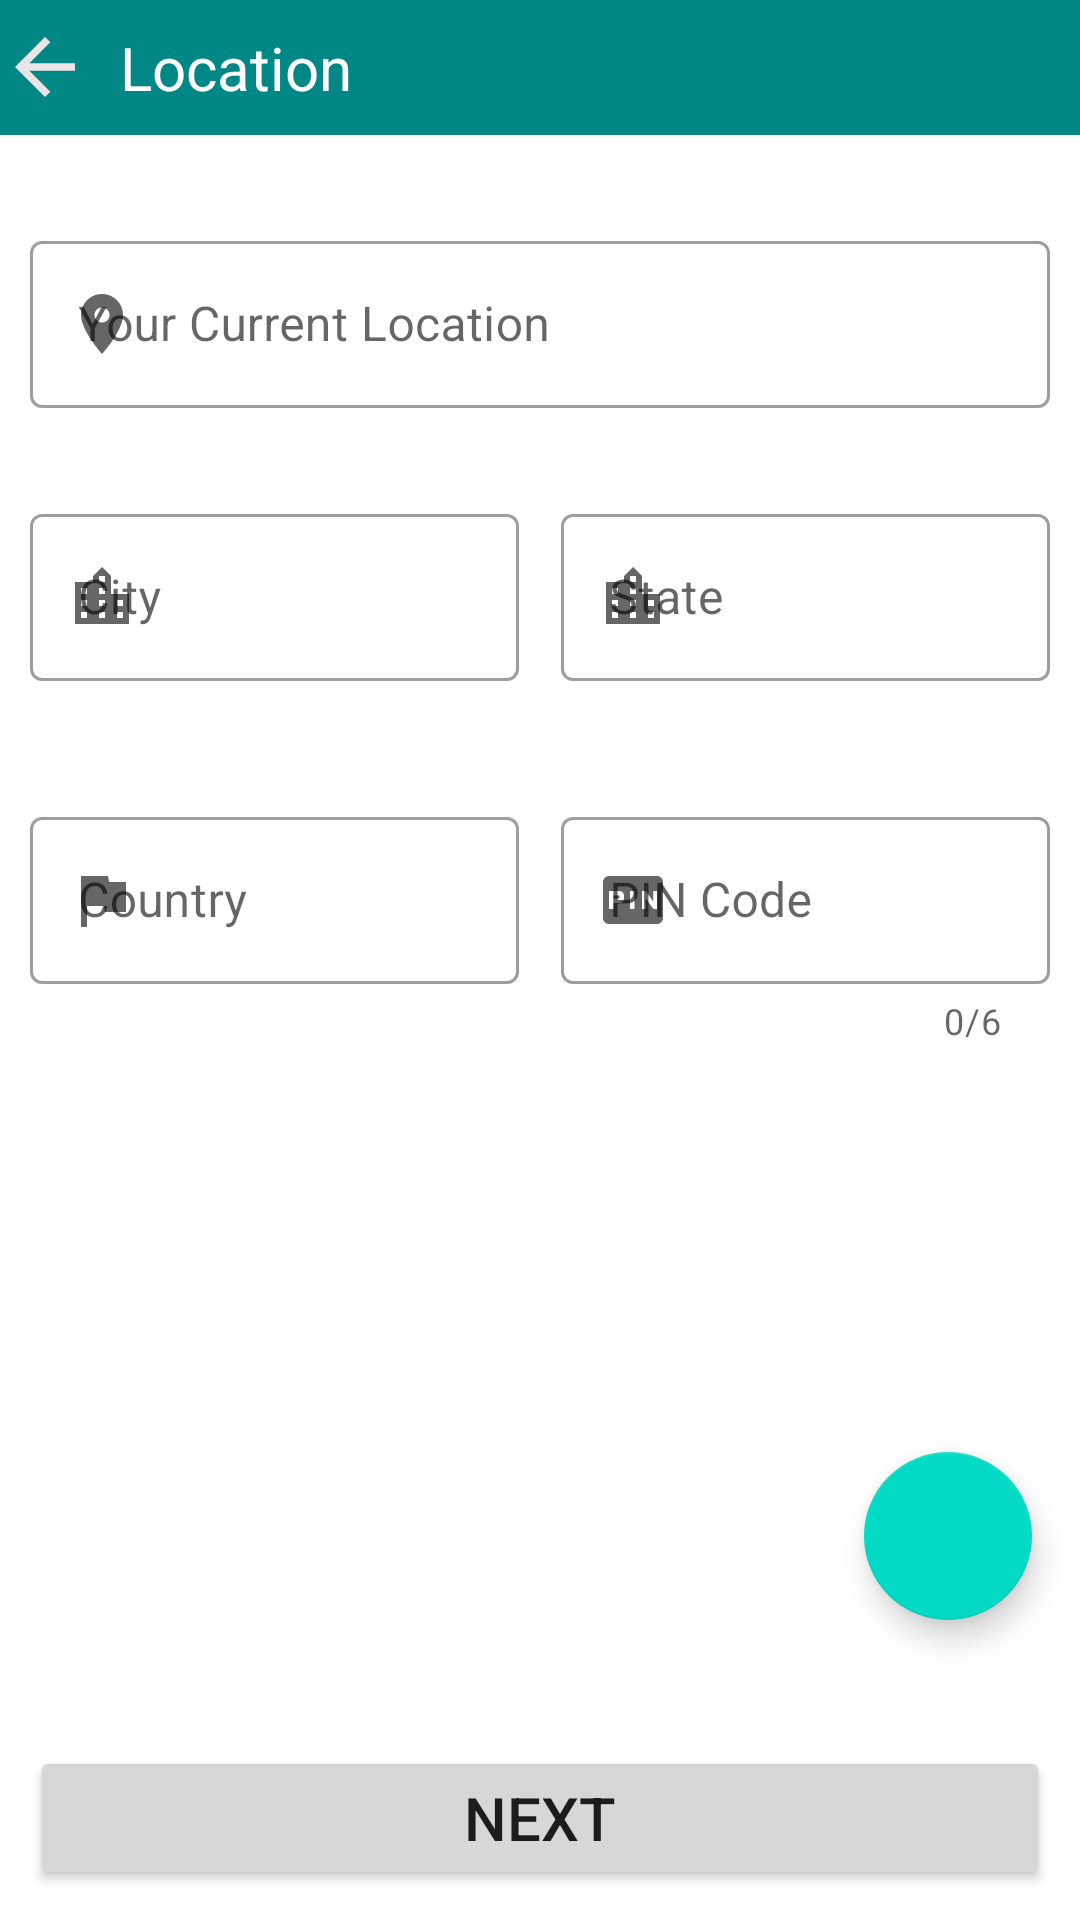

Named icons in this screenshot (1080x1920) and their bounding boxes, (x1, y1, x2, y2):
back: (15, 37, 75, 97)
